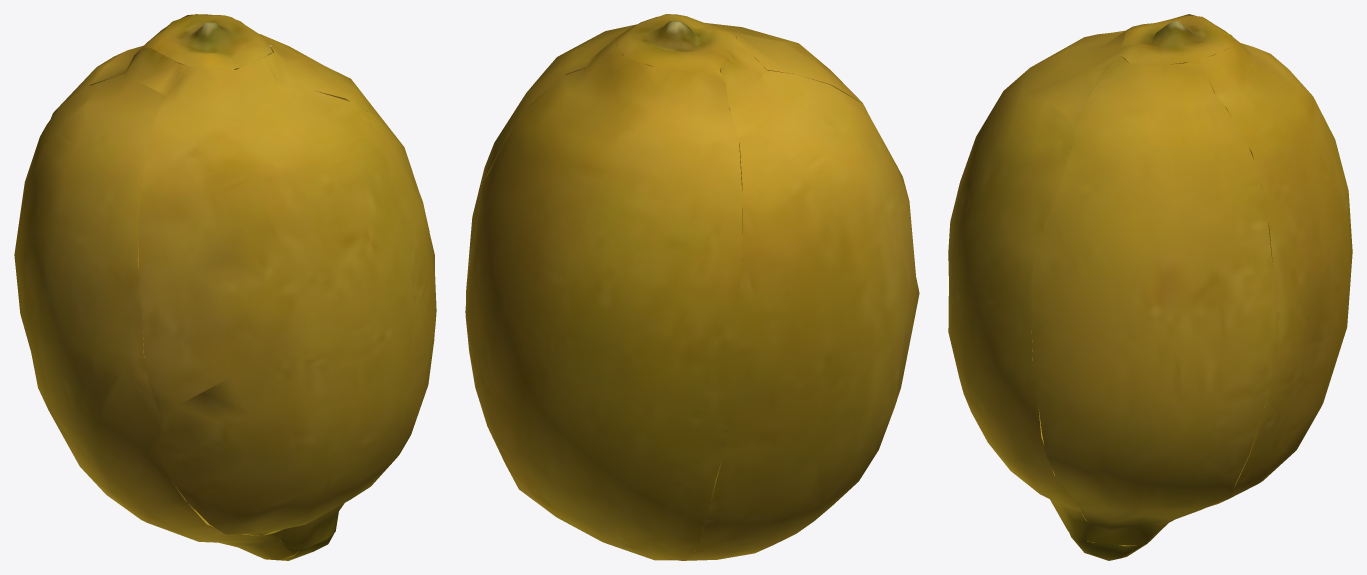
The model's file is lemon.glb.
The picture shows the model from 3 angles, left to right: view 1: azimuth 30°, elevation 25°; view 2: azimuth 150°, elevation 25°; view 3: azimuth 270°, elevation 25°; orthographic projection. The views are drawn at different scales.
Parts seen in each view (by area): view 1: lemon; view 2: lemon; view 3: lemon.
Boxes of the visible parts, x1=… form: lemon: x1=14, y1=14, x2=436, y2=560; lemon: x1=465, y1=14, x2=919, y2=560; lemon: x1=948, y1=14, x2=1352, y2=560.
Bounding box in the file's own units: 0.0687 × 0.0956 × 0.0681.
1 material, 1 textured.
